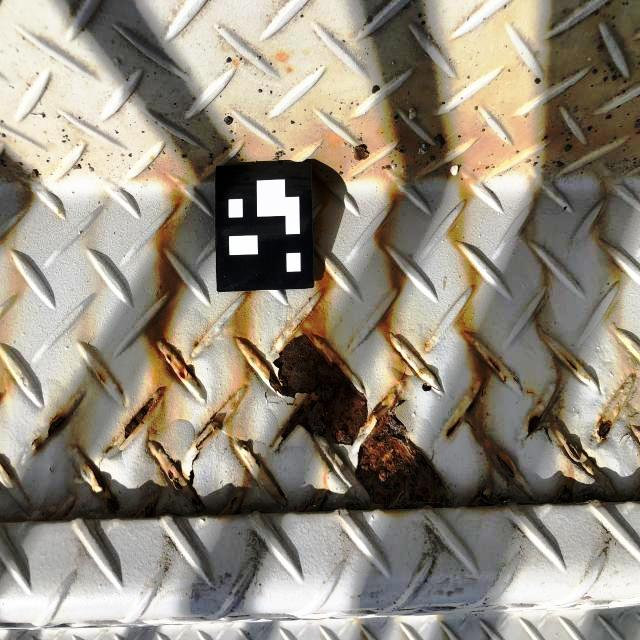Corrosion: (250, 333, 456, 505), (104, 385, 170, 456), (152, 327, 193, 385), (190, 419, 222, 485), (162, 461, 200, 508), (80, 460, 109, 494), (41, 417, 67, 439), (496, 455, 518, 477), (596, 418, 615, 443), (524, 415, 541, 439), (563, 441, 579, 465), (482, 355, 502, 374), (104, 496, 121, 516), (445, 419, 462, 437), (563, 356, 580, 374), (141, 499, 155, 518), (466, 394, 479, 413), (556, 485, 572, 499), (480, 488, 491, 505), (421, 383, 436, 392)
